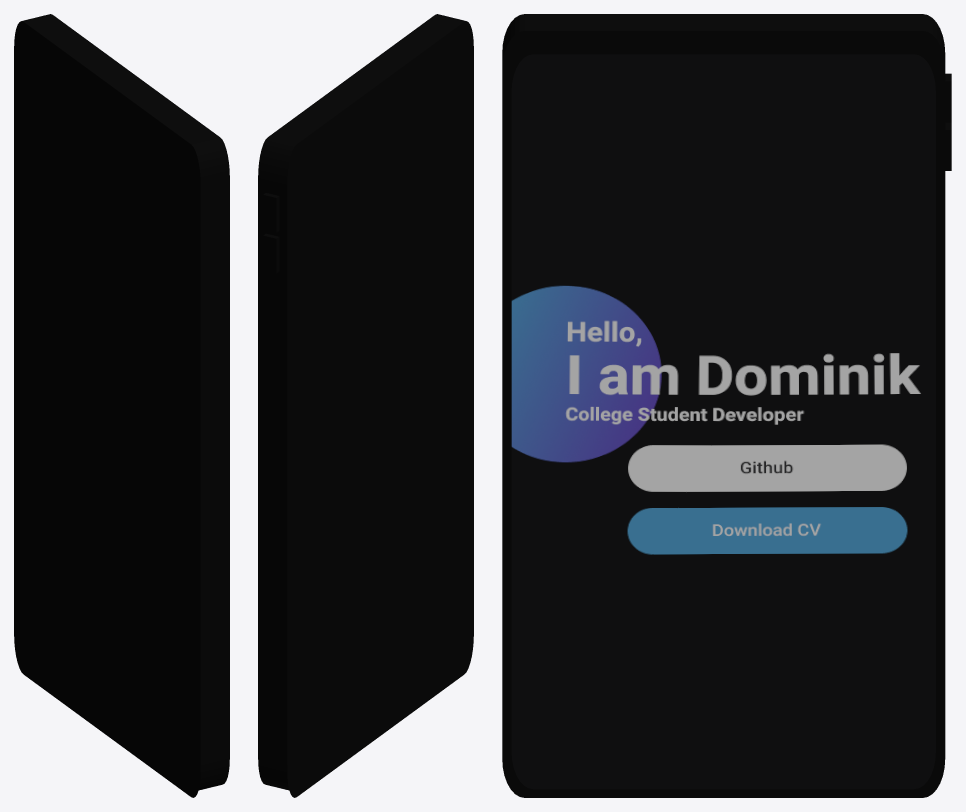
File: phone.glb
3 renders of one model, left to right at view 1: azimuth 30°, elevation 25°; view 2: azimuth 150°, elevation 25°; view 3: azimuth 270°, elevation 25°, orthographic. The views are drawn at different scales.
Visible parts, largest first — view 1: Plane; view 2: Plane, Buttons; view 3: Plane.002, Plane.
Boxes of the visible parts, x1,y1,x2,y2 form: Plane: [14, 14, 229, 797]; Plane: [258, 14, 473, 797]; Buttons: [263, 193, 279, 273]; Plane.002: [511, 54, 935, 789]; Plane: [502, 14, 945, 797].
Bounding box in the file's own units: 0.1802 × 3.86 × 2.03.
3 materials, 1 textured.
